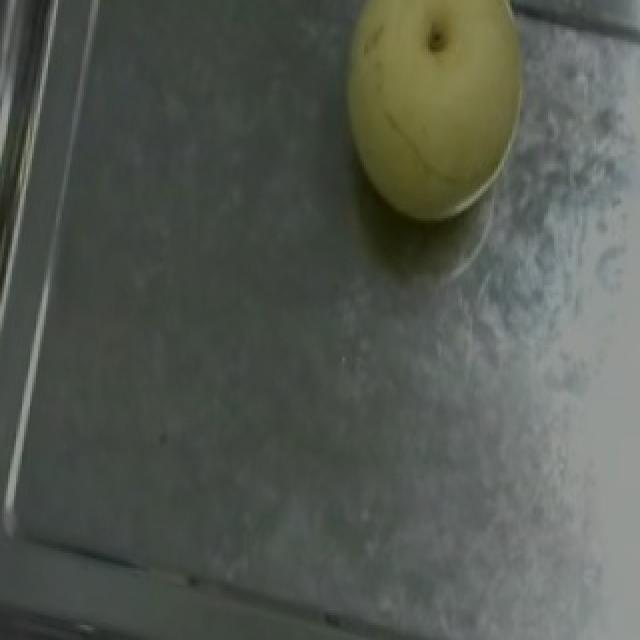Fruit: (314, 0, 552, 246)
